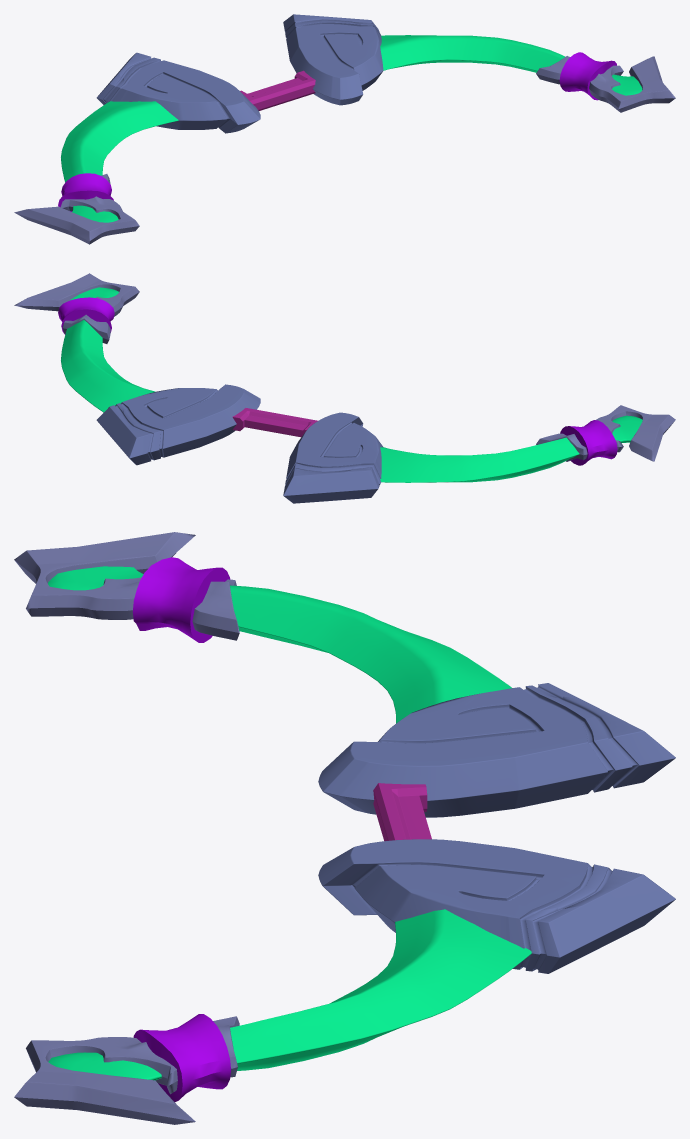
Rendered from bow_low_2.fbx.
The picture shows the model from 3 angles, top to bottom: view 1: azimuth 30°, elevation 25°; view 2: azimuth 150°, elevation 25°; view 3: azimuth 270°, elevation 25°; orthographic projection. The views are drawn at different scales.
Visible parts, largest first — view 1: bow_final_mesh_; view 2: bow_final_mesh_; view 3: bow_final_mesh_.
Part boxes in pixels (x1,y1,x2,y2): bow_final_mesh_: (14,14,675,244); bow_final_mesh_: (14,273,675,503); bow_final_mesh_: (14,532,675,1124).
Bounding box in the file's own units: 8.85 × 0.4695 × 4.22.
